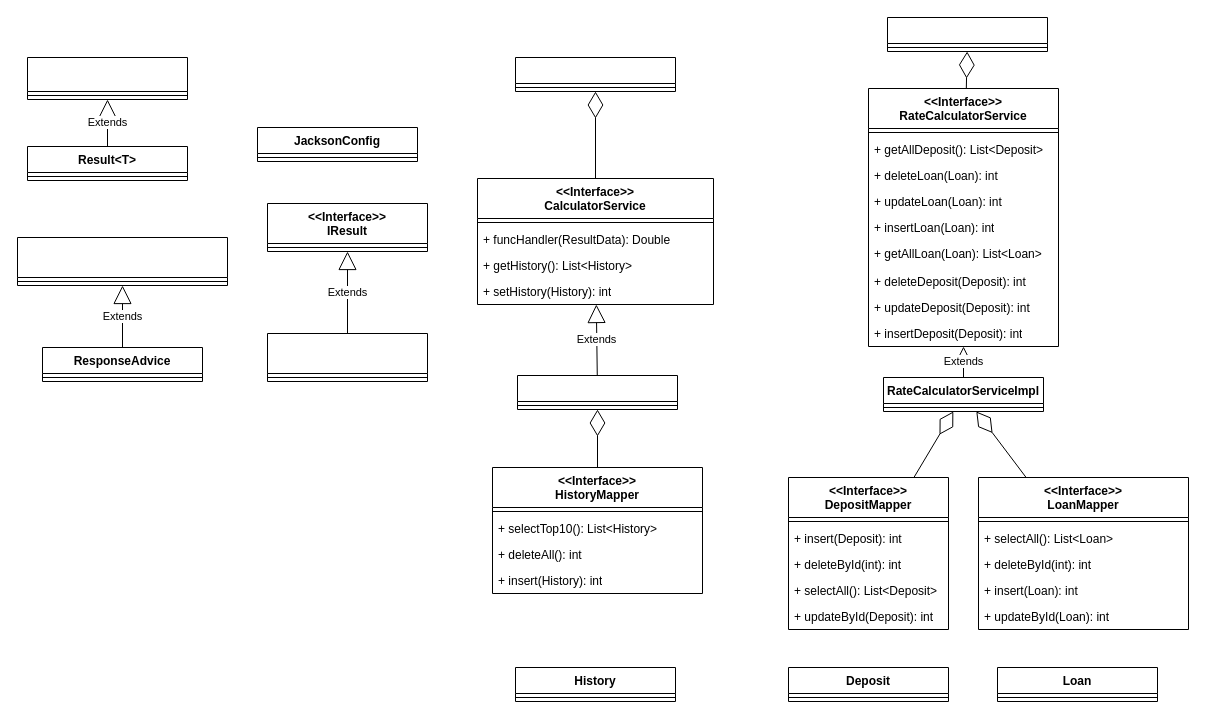
Image size: 1206x719. Some labels were removed from this diagram. Here are the shapes that lost their labels. From the top down, the centre of each, then its label:
pixel 967 34: RateCalculatorController
pixel 107 78: <<Interface>> Serializable
pixel 595 74: CalculatorController
pixel 122 261: <<Interface>> ResponseBodyAdive<Object>
pixel 347 357: <<Enum>> ResultEnum
pixel 597 392: CalculatorServiceImpl
